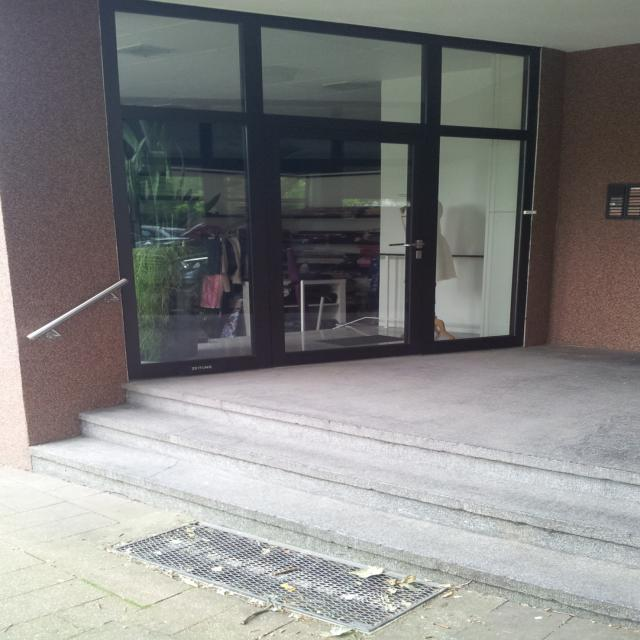AVOID: (23, 380, 637, 624)
